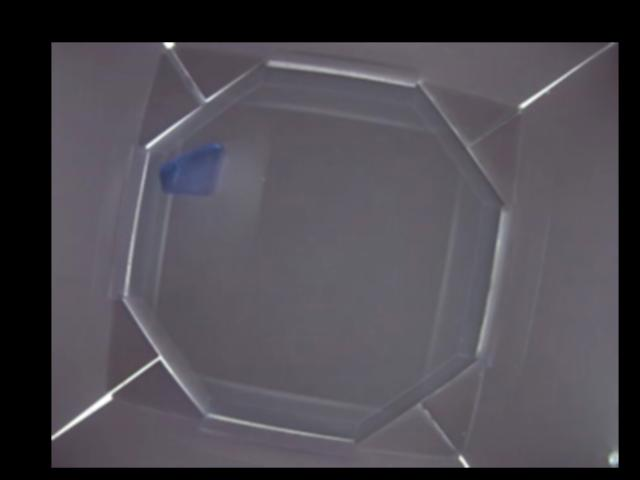Mooli: (158, 141, 224, 196)
